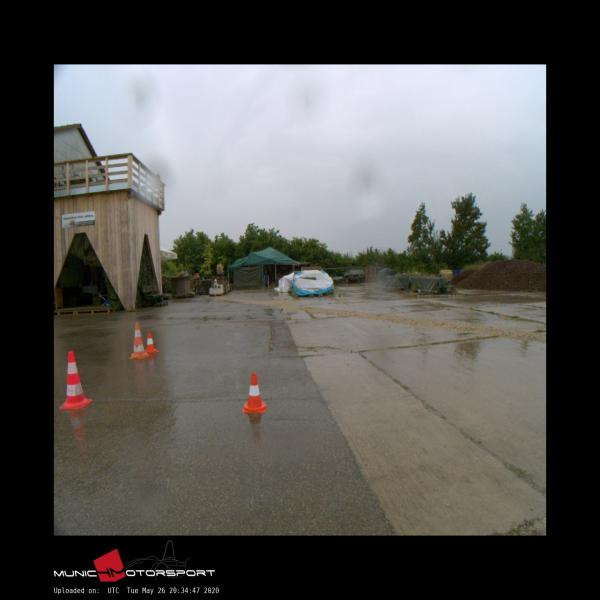large_orange_cone: (59, 351, 92, 408), (130, 322, 148, 358)
orange_cone: (242, 373, 266, 412), (144, 332, 158, 352)
